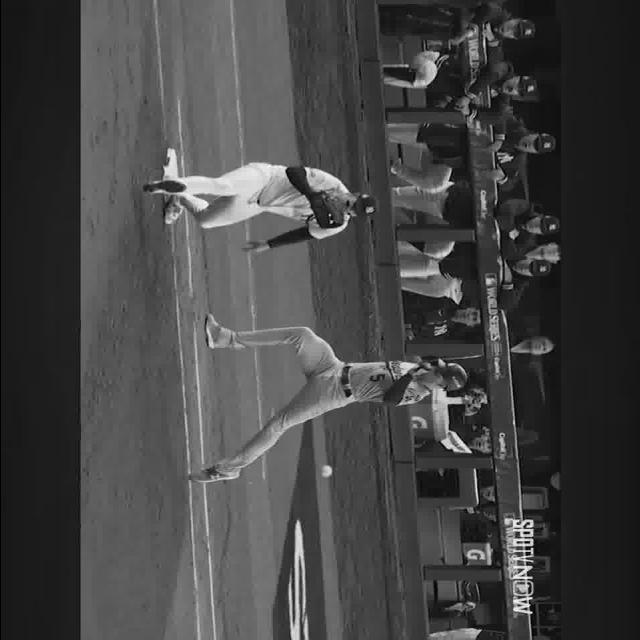base: (162, 148, 177, 180)
baseball: (320, 466, 332, 476)
baseball_glove: (307, 191, 343, 229)
shoe: (188, 466, 238, 484), (203, 314, 225, 349), (162, 195, 182, 224), (142, 181, 185, 194)
